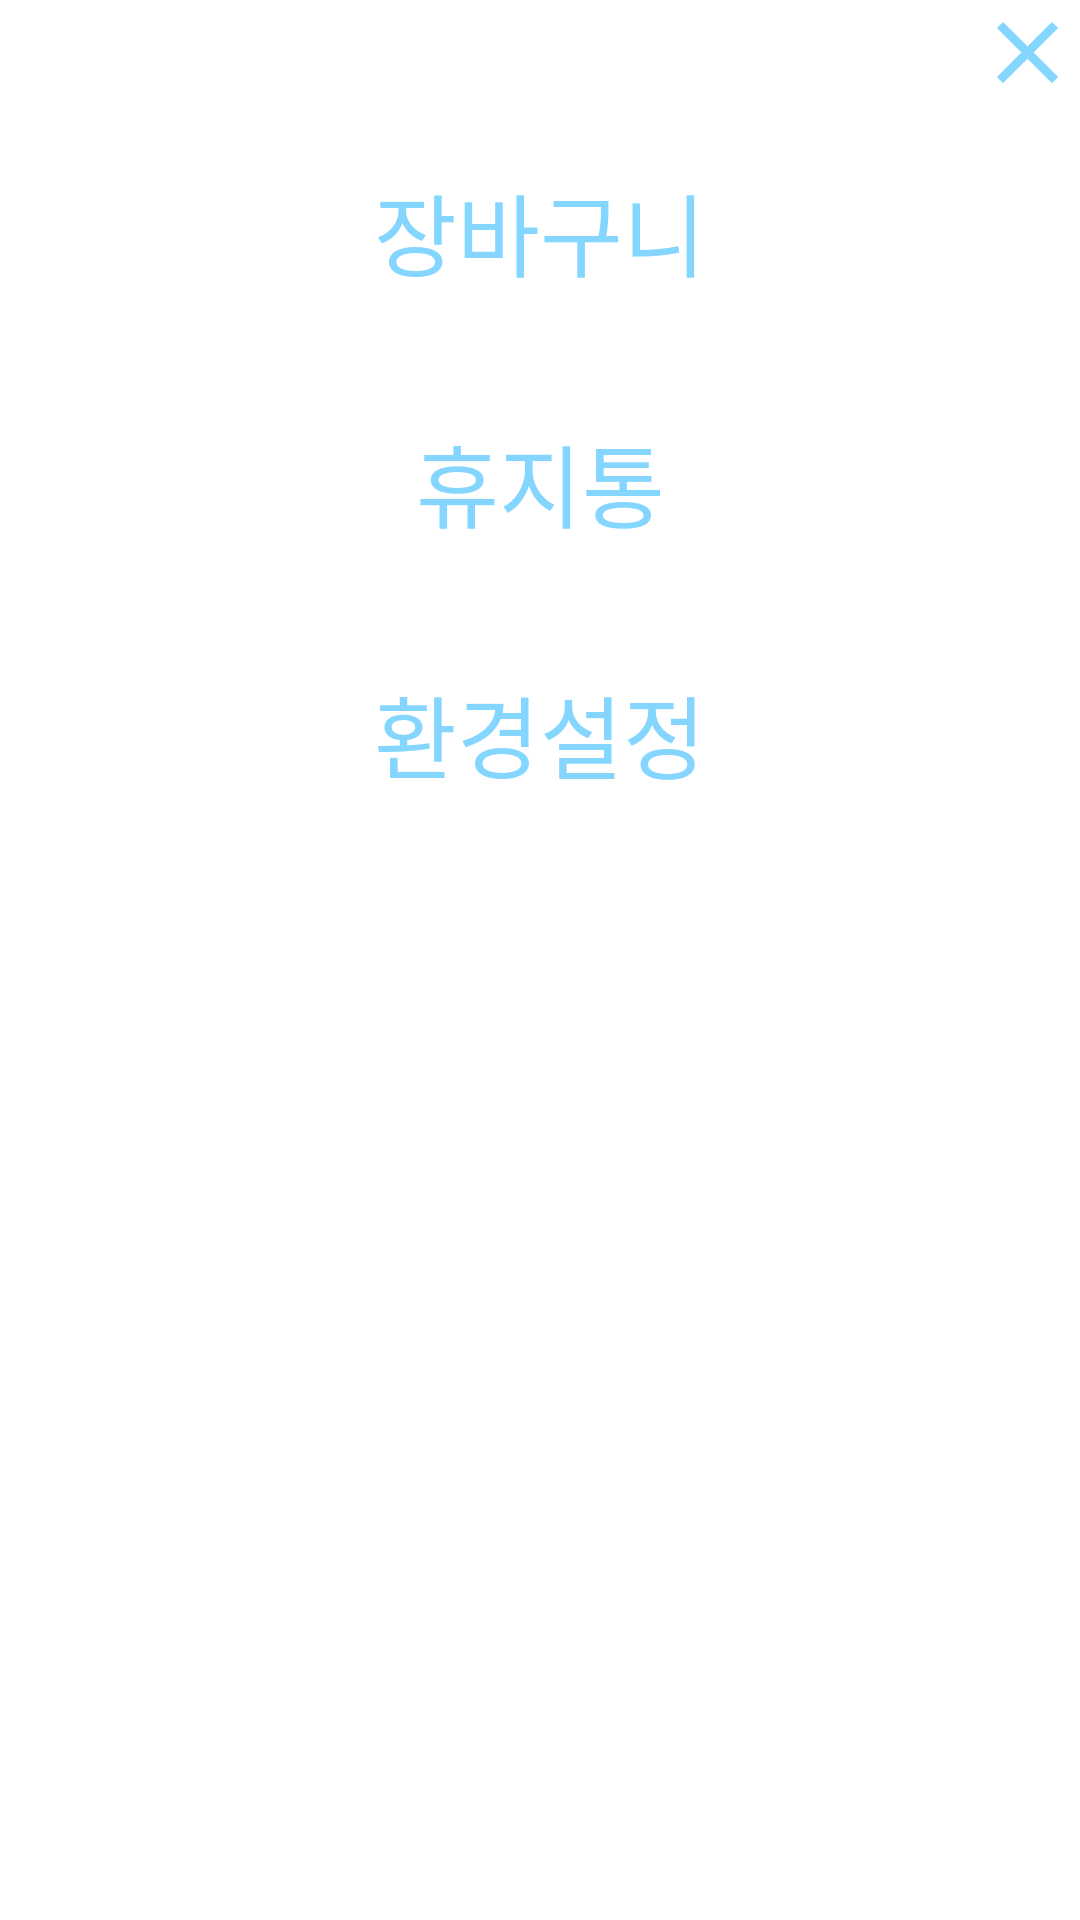

Named icons in this screenshot (1080x1920) and their bounding boxes, (x1, y1, x2, y2):
close: (997, 22, 1058, 83)
